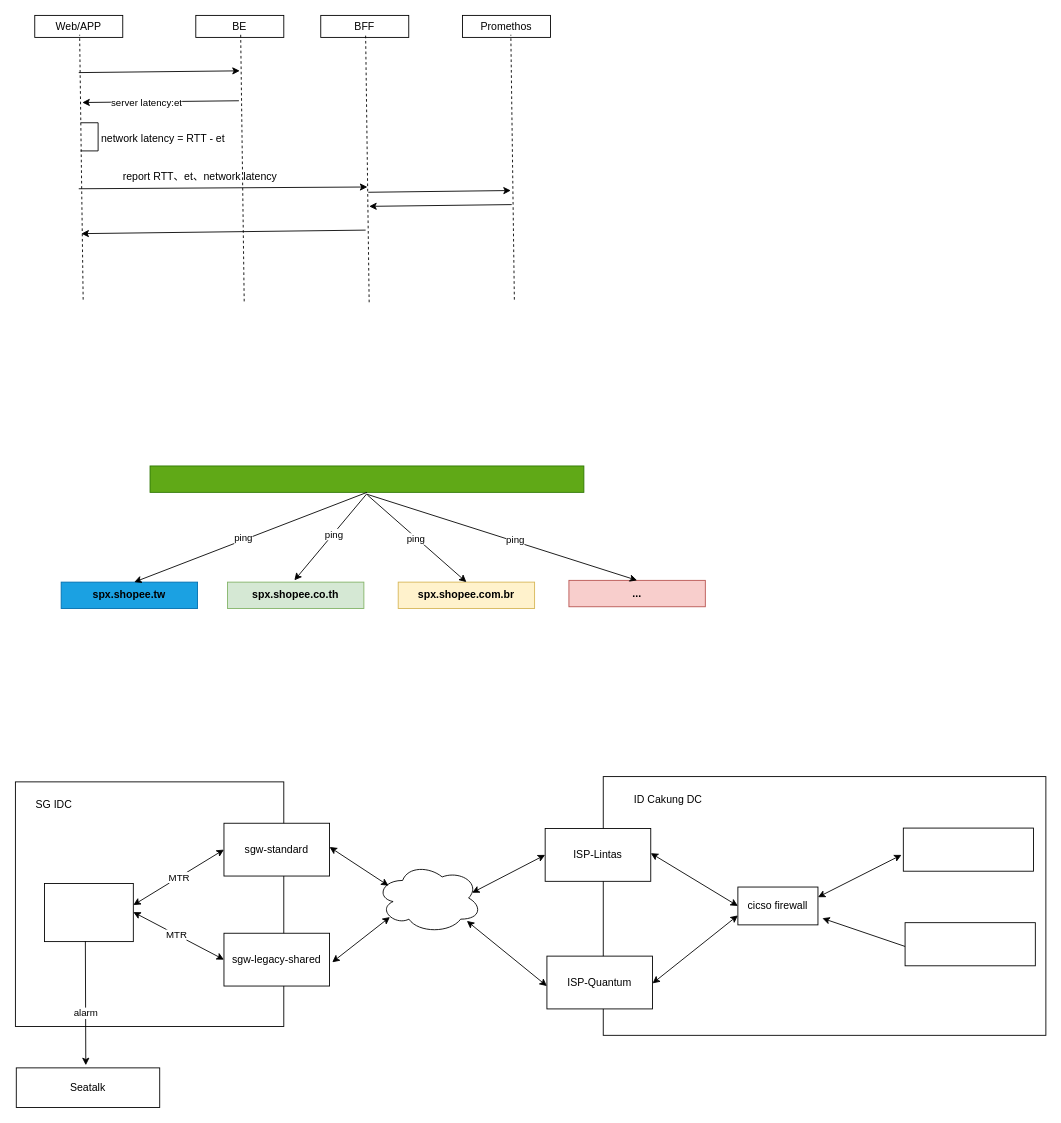
The diagram is 1061 pixels wide and 1123 high, and some of its shapes have lost their labels. The centre of each missing label's shape, as x and y in pixels:
"ASM(ip:202.152.60.234)" belongs at (968,849).
"FE" belongs at (366,478).
"Internet" belongs at (428,897).
"Network Server" belongs at (88,912).
"Other Machines" belongs at (969,944).
